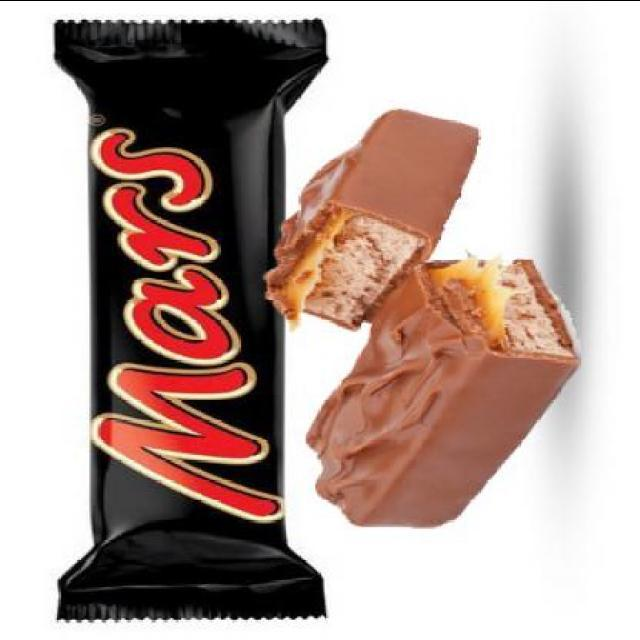Chocolate bar: (54, 11, 332, 622)
Chocolate bar packaged: (306, 246, 580, 529), (266, 106, 488, 328)
